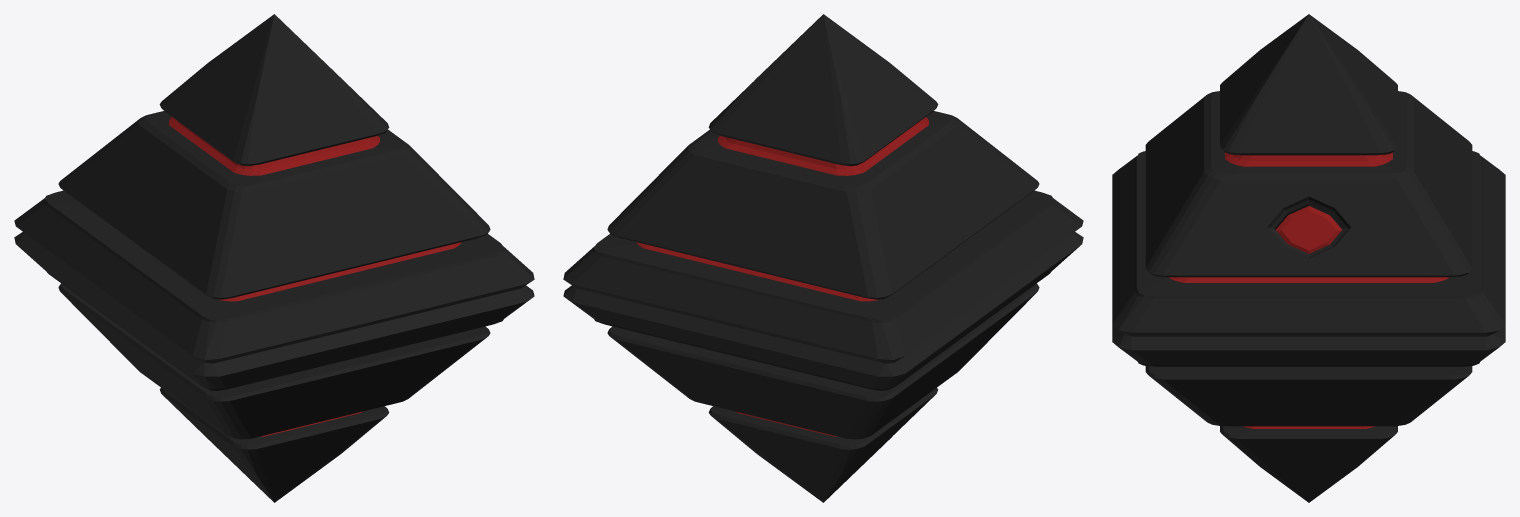
Rendered from Boss.fbx.
The picture shows the model from 3 angles, left to right: view 1: azimuth 30°, elevation 25°; view 2: azimuth 150°, elevation 25°; view 3: azimuth 270°, elevation 25°; orthographic projection.
Parts seen in each view (by area): view 1: HeartCore; view 2: HeartCore; view 3: HeartCore.
Part boxes in pixels (x1,y1,x2,y2): HeartCore: (14,14,534,502); HeartCore: (563,14,1083,502); HeartCore: (1112,14,1505,502).
Size of the model in its own units: 177 by 242 by 177.
